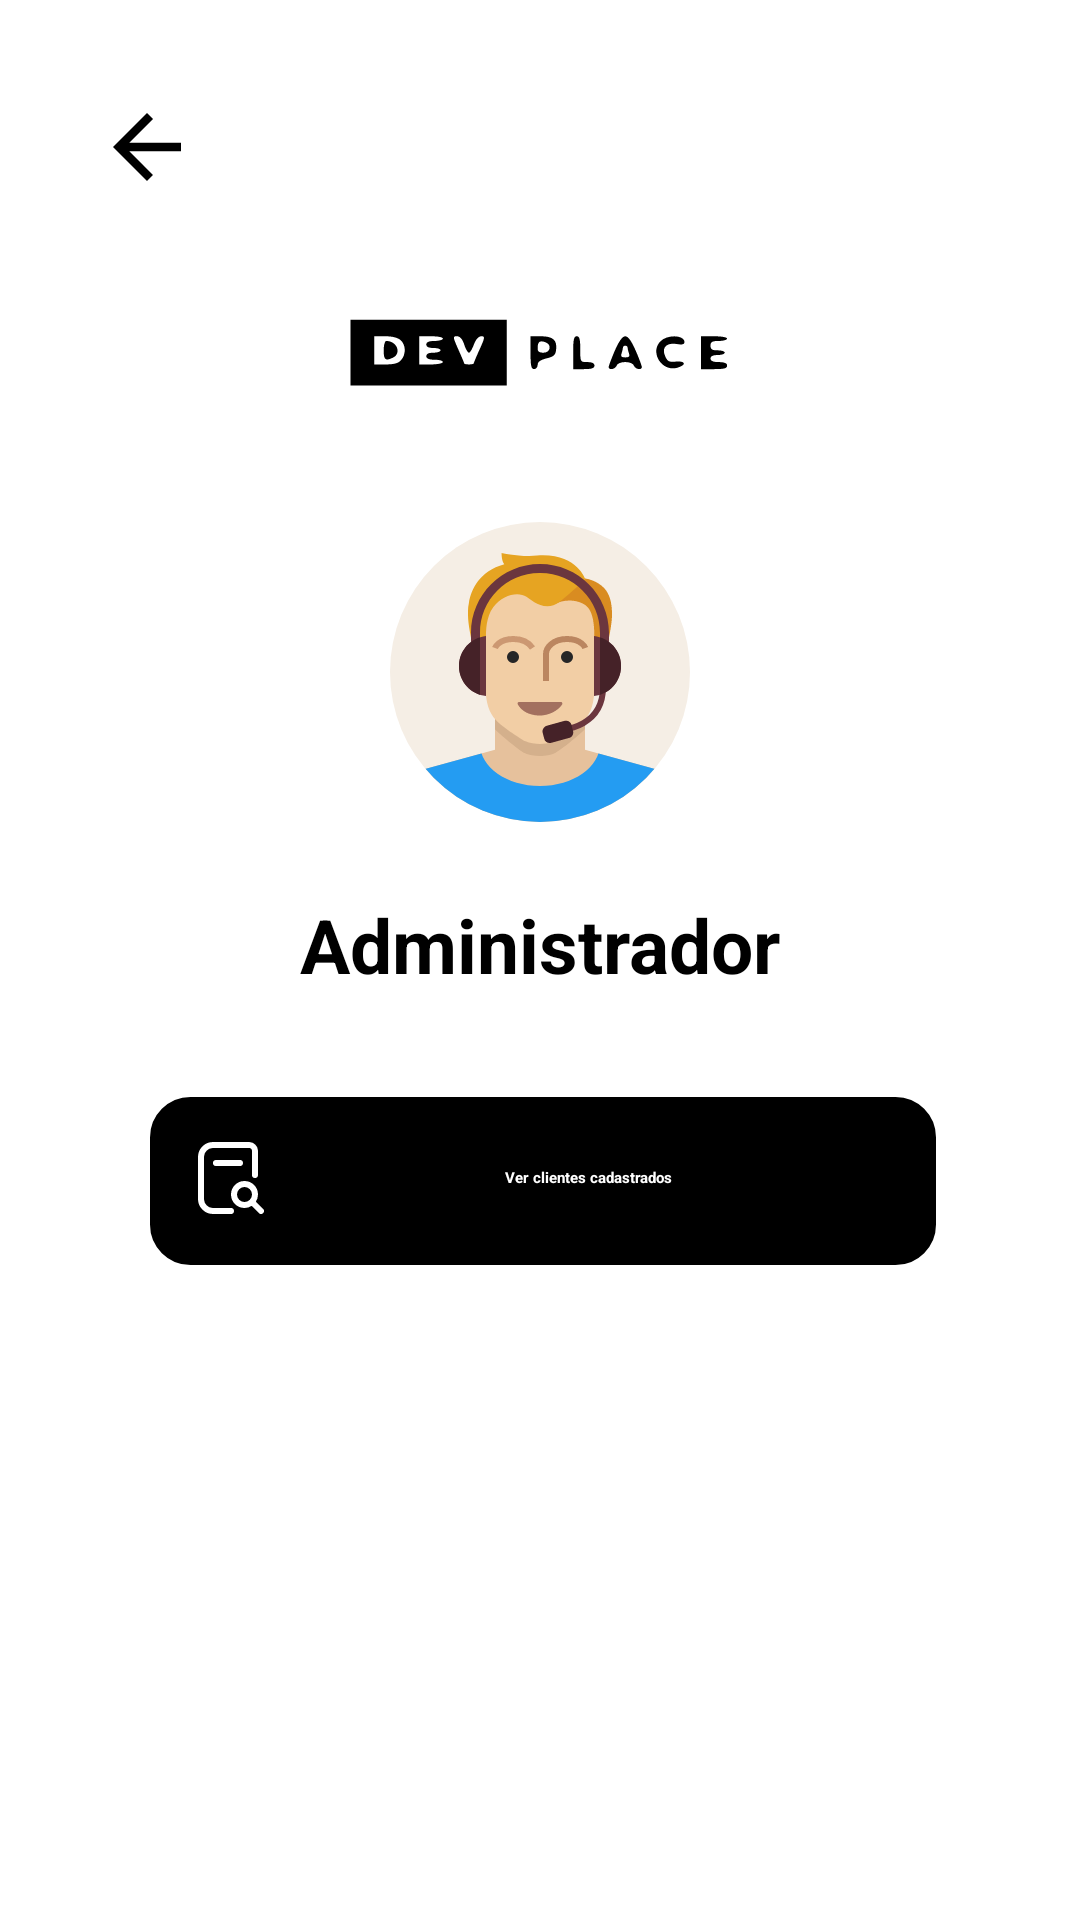

Where icons sit on this 1080 x 1920 app screen, as (x1, y1, x2, y2):
male support: (390, 522, 690, 822)
voltar nav: (113, 113, 181, 181)
